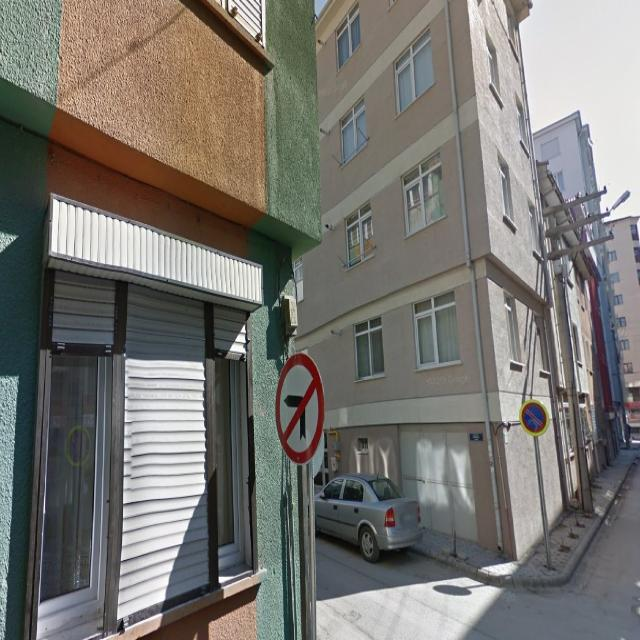parkyasak: (522, 402, 546, 434)
soladonulmez: (274, 354, 324, 464)
